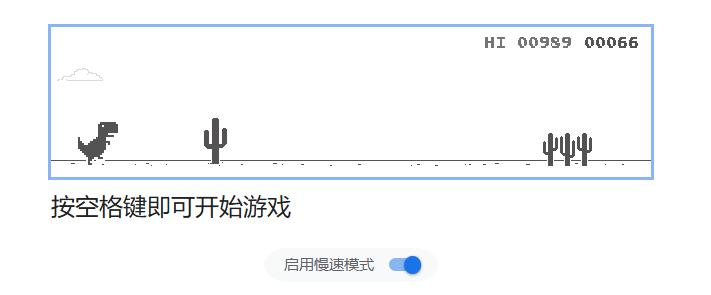cactus: (539, 131, 594, 170), (200, 118, 233, 165)
dino: (74, 118, 120, 166)
